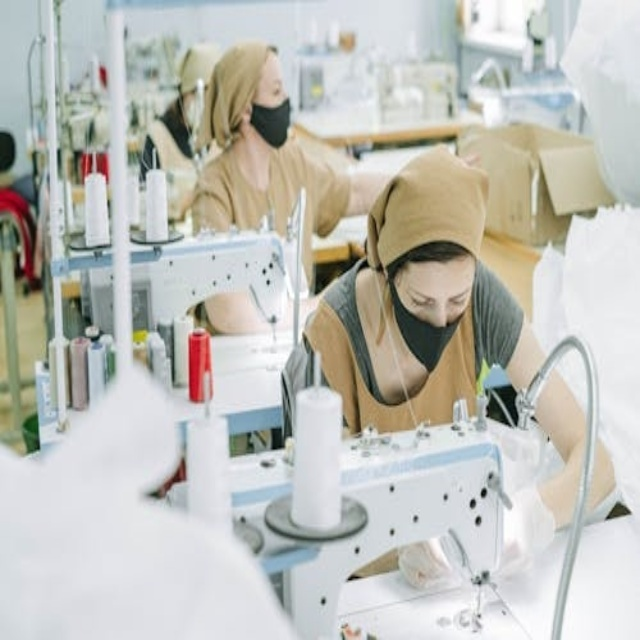Mascara: (387, 279, 468, 363), (246, 88, 288, 148)
Sin_gafas: (401, 269, 474, 309), (257, 73, 291, 98)
